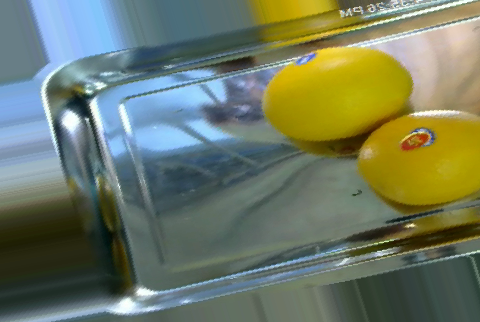Orange: (262, 46, 412, 141), (358, 108, 480, 205)
